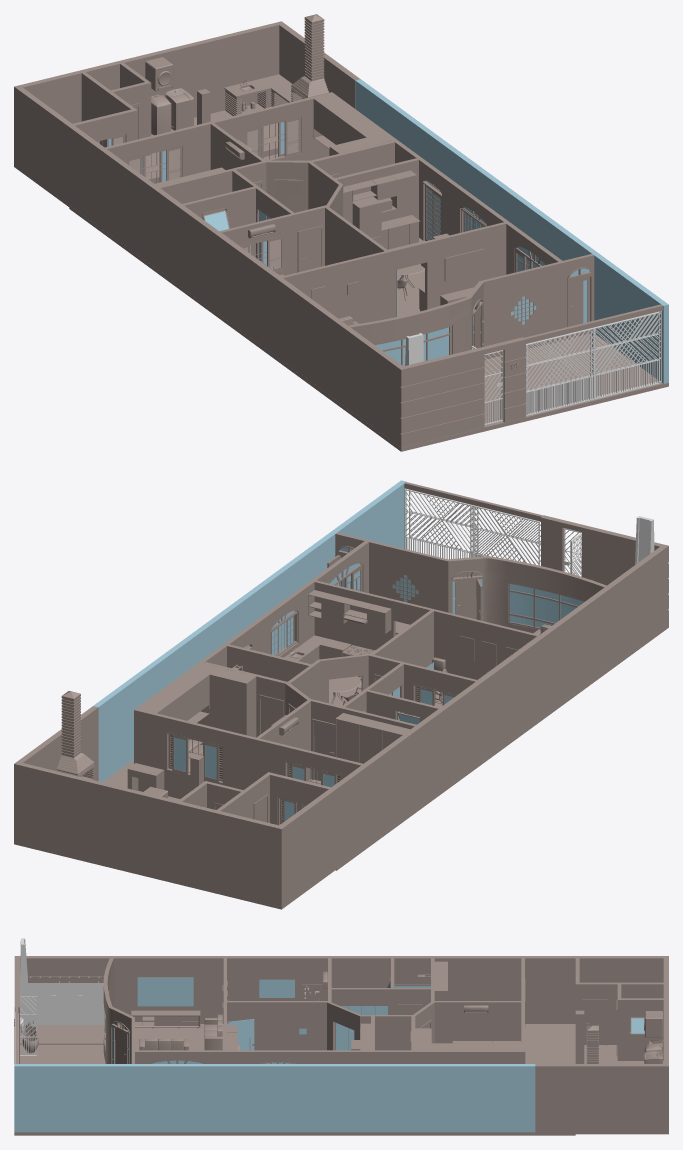
Rendered from casa.glb.
3 renders of one model, top to bottom at view 1: azimuth 30°, elevation 25°; view 2: azimuth 150°, elevation 25°; view 3: azimuth 270°, elevation 25°, orthographic. The views are drawn at different scales.
Visible parts, largest first — view 1: paredes, muro_transparente, Piso, Ferragens, Portao_Garagem_fechado, Vidros, Cozinha_Armarios, Portao_Garagem_Aberto_B, Portao_Garagem_Aberto_A, Lavanderia_Tijolo, Quarto-Principal_moveis, Lavanderia_Moveis (+8 smaller); view 2: paredes, muro_transparente, Quarto-Principal_moveis, Vidros, Cozinha_Armarios, Piso, Portao_Garagem_fechado, Ferragens, Quarto hospedes_Movesi, Lavanderia_Tijolo, Portas_internas, Portao_Garagem_Aberto_B (+6 smaller); view 3: paredes, muro_transparente, Piso, Escritorio_Painel, Muro_tijolo_2, Vidros, Sala_TV_Tela, Jardim, Portas_internas, Quarto-Principal_moveis, Sala_Racc, Lavanderia_Moveis (+13 smaller).
Part boxes in pixels (<box>): paredes: <box>14,21,594,447</box>; muro_transparente: <box>355,79,668,383</box>; Piso: <box>14,110,668,451</box>; Ferragens: <box>96,115,486,271</box>; Portao_Garagem_fechado: <box>525,311,661,416</box>; Vidros: <box>98,122,589,366</box>; Cozinha_Armarios: <box>343,170,449,311</box>; Portao_Garagem_Aberto_B: <box>526,327,595,415</box>; Portao_Garagem_Aberto_A: <box>590,311,659,399</box>; Lavanderia_Tijolo: <box>225,14,328,115</box>; Quarto-Principal_moveis: <box>313,95,392,155</box>; Lavanderia_Moveis: <box>145,57,292,135</box>; paredes: <box>14,515,668,906</box>; muro_transparente: <box>93,480,406,782</box>; Quarto-Principal_moveis: <box>140,663,256,776</box>; Vidros: <box>174,547,583,820</box>; Cozinha_Armarios: <box>284,590,391,703</box>; Piso: <box>14,624,668,909</box>; Portao_Garagem_fechado: <box>404,488,540,565</box>; Ferragens: <box>165,610,456,825</box>; Quarto hospedes_Movesi: <box>290,713,410,782</box>; Lavanderia_Tijolo: <box>56,691,94,780</box>; Portas_internas: <box>213,674,381,822</box>; Portao_Garagem_Aberto_B: <box>470,505,540,565</box>; paredes: <box>14,956,668,1131</box>; muro_transparente: <box>14,1064,535,1132</box>; Piso: <box>14,1024,668,1135</box>; Escritorio_Painel: <box>227,958,327,1000</box>; Muro_tijolo_2: <box>27,981,104,1024</box>; Vidros: <box>108,981,644,1063</box>; Sala_TV_Tela: <box>137,977,193,1006</box>; Jardim: <box>20,1025,104,1044</box>; Portas_internas: <box>398,999,617,1055</box>; Quarto-Principal_moveis: <box>415,1028,521,1050</box>; Sala_Racc: <box>131,1010,200,1028</box>; Lavanderia_Moveis: <box>644,1011,663,1052</box>.
Size of the model in its own units: 395 by 186 by 990.
